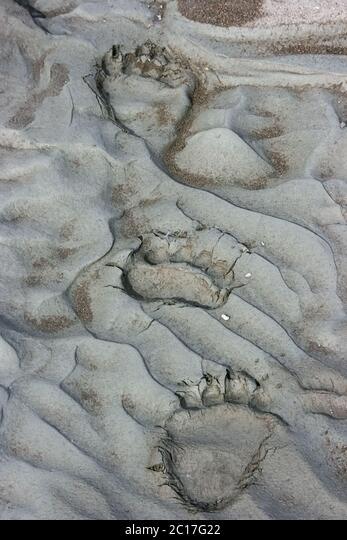bear: (151, 364, 297, 519), (125, 217, 254, 342), (103, 30, 197, 144)
